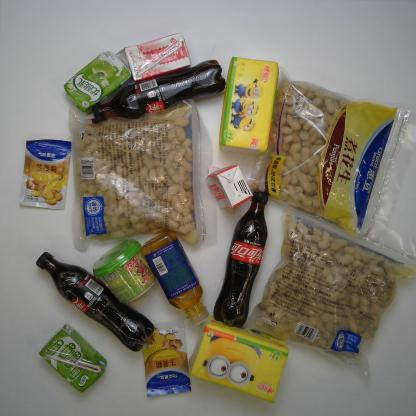Dried Food: (252, 202, 416, 372), (254, 66, 410, 234), (57, 103, 208, 241)
Drink: (31, 250, 153, 351), (83, 59, 229, 122), (214, 187, 280, 326), (138, 232, 220, 327)
Instant Drink: (88, 238, 162, 303)
Milk: (36, 322, 112, 398), (62, 51, 129, 112), (121, 32, 197, 80), (210, 164, 260, 212)
Seasoner: (134, 320, 198, 399), (18, 135, 80, 215)
Tissue: (187, 316, 305, 409), (224, 54, 279, 152)
